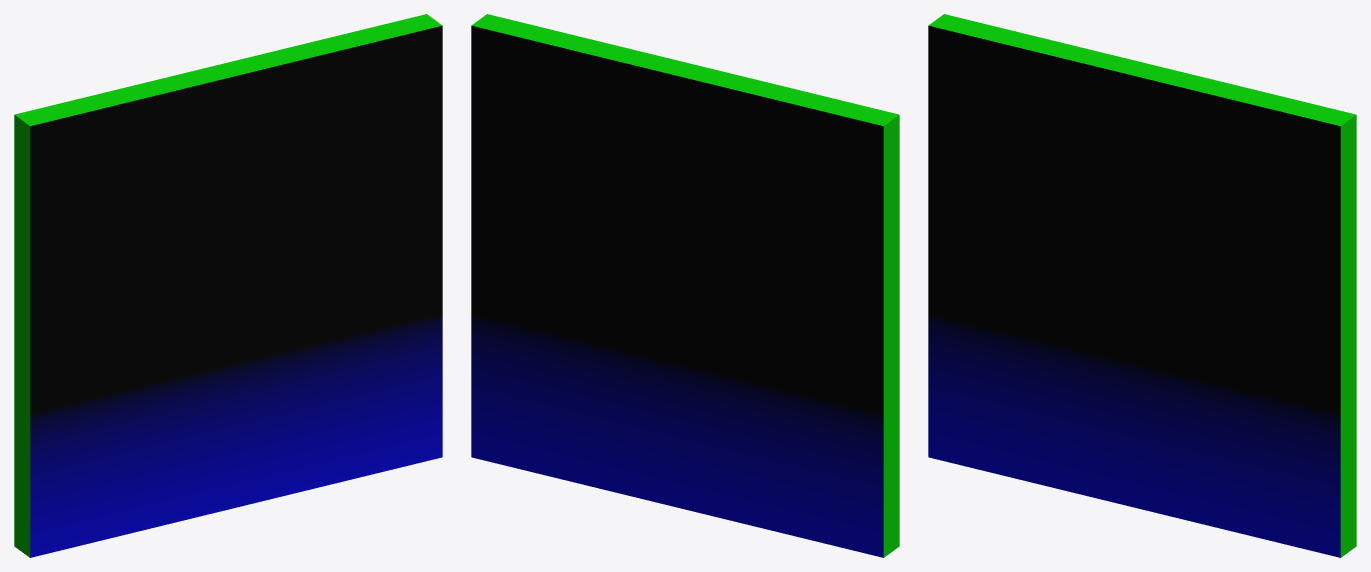
The model's file is wall_Full_01.fbx.
The picture shows the model from 3 angles, left to right: view 1: azimuth 30°, elevation 25°; view 2: azimuth 150°, elevation 25°; view 3: azimuth 330°, elevation 25°; orthographic projection.
Parts seen in each view (by area): view 1: wall_Full_01; view 2: wall_Full_01; view 3: wall_Full_01.
Boxes of the visible parts, x1,y1,x2,y2 form: wall_Full_01: [14, 14, 442, 557]; wall_Full_01: [471, 14, 899, 557]; wall_Full_01: [928, 14, 1356, 557].
Size of the model in its own units: 300 by 300 by 20.
